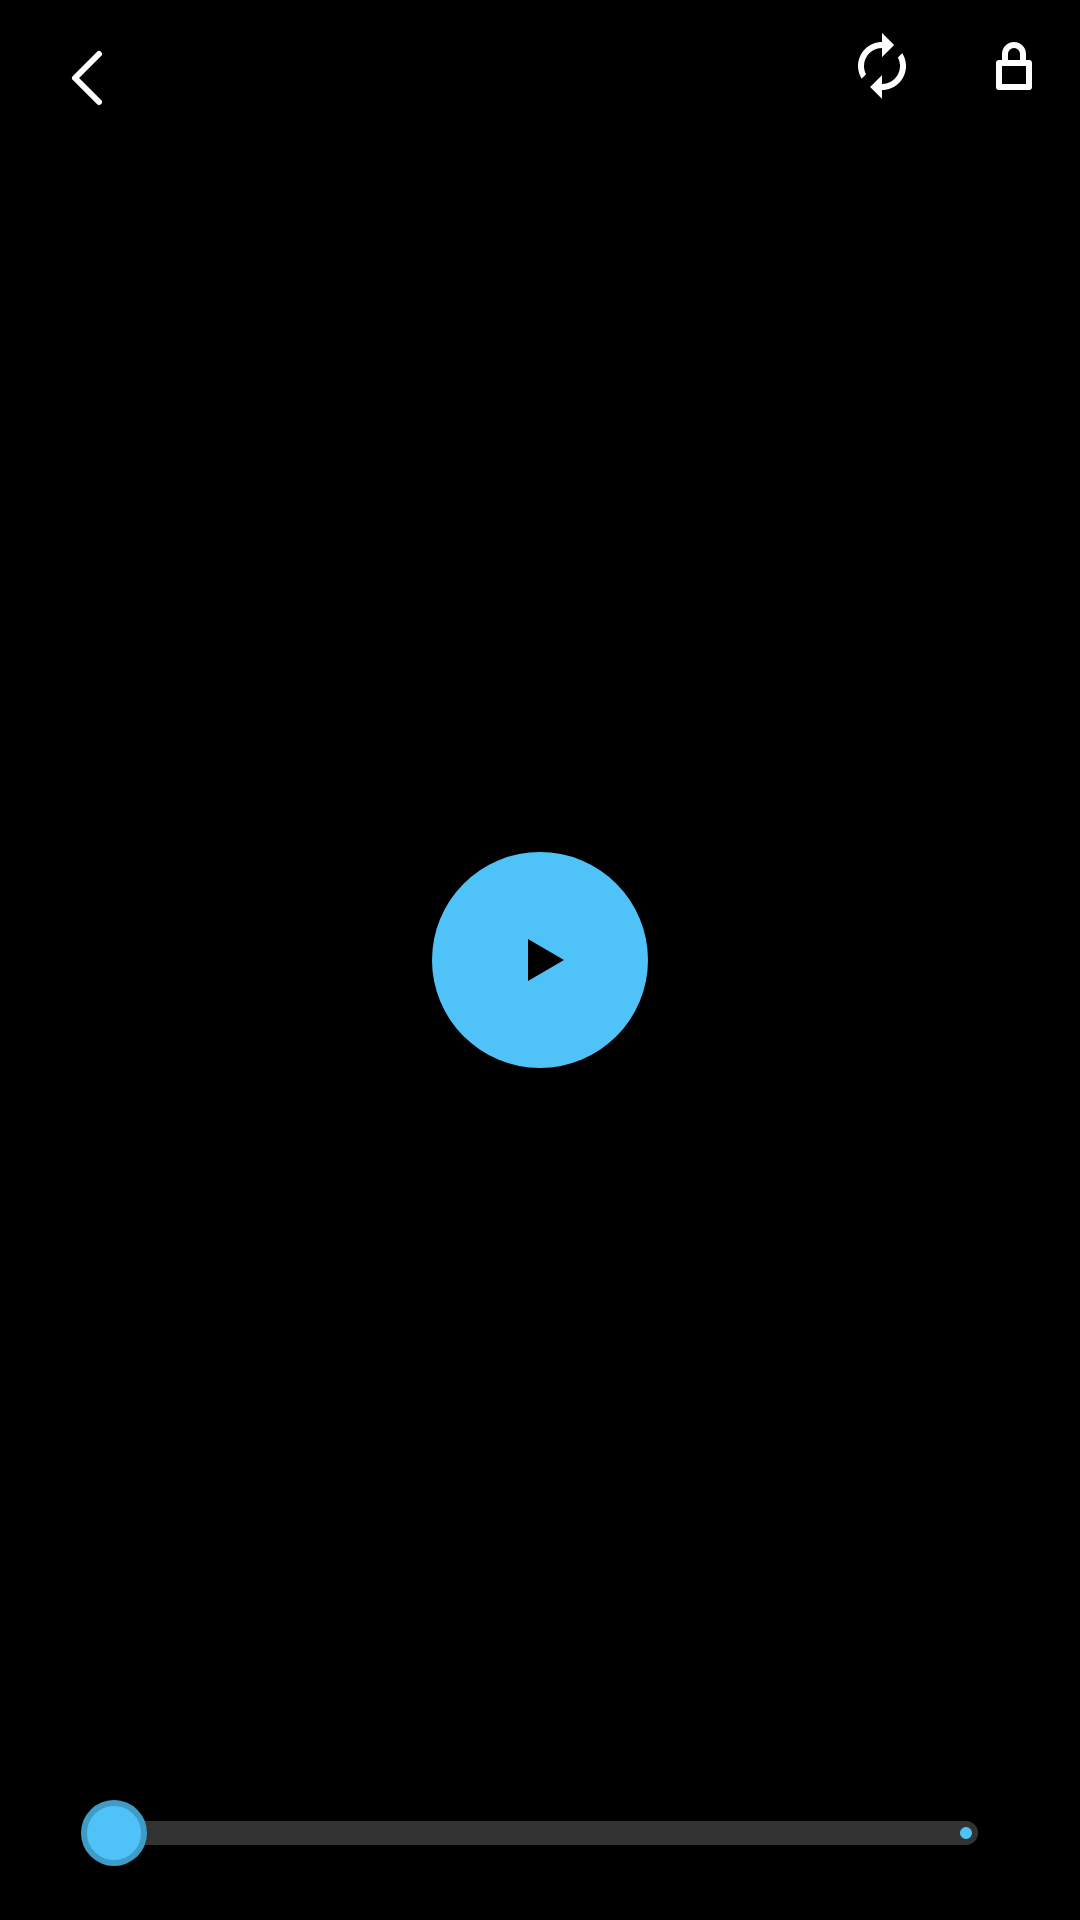

Screen size 1080*1920. Icon name, then its center in pixels as point (x, y):
播放: point (540, 960)
旋转: point (882, 66)
返回: point (87, 77)
锁定: point (1014, 66)
